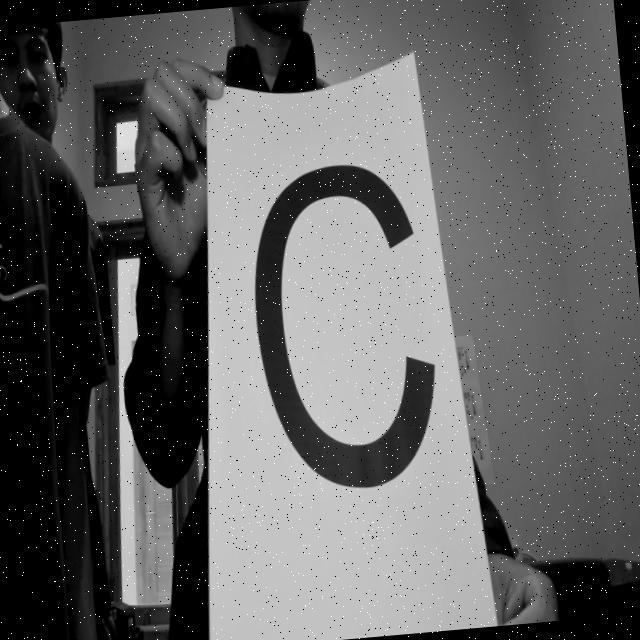c: (230, 132, 462, 504)
